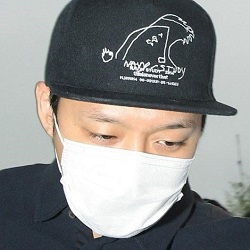mask: (59, 136, 192, 237)
